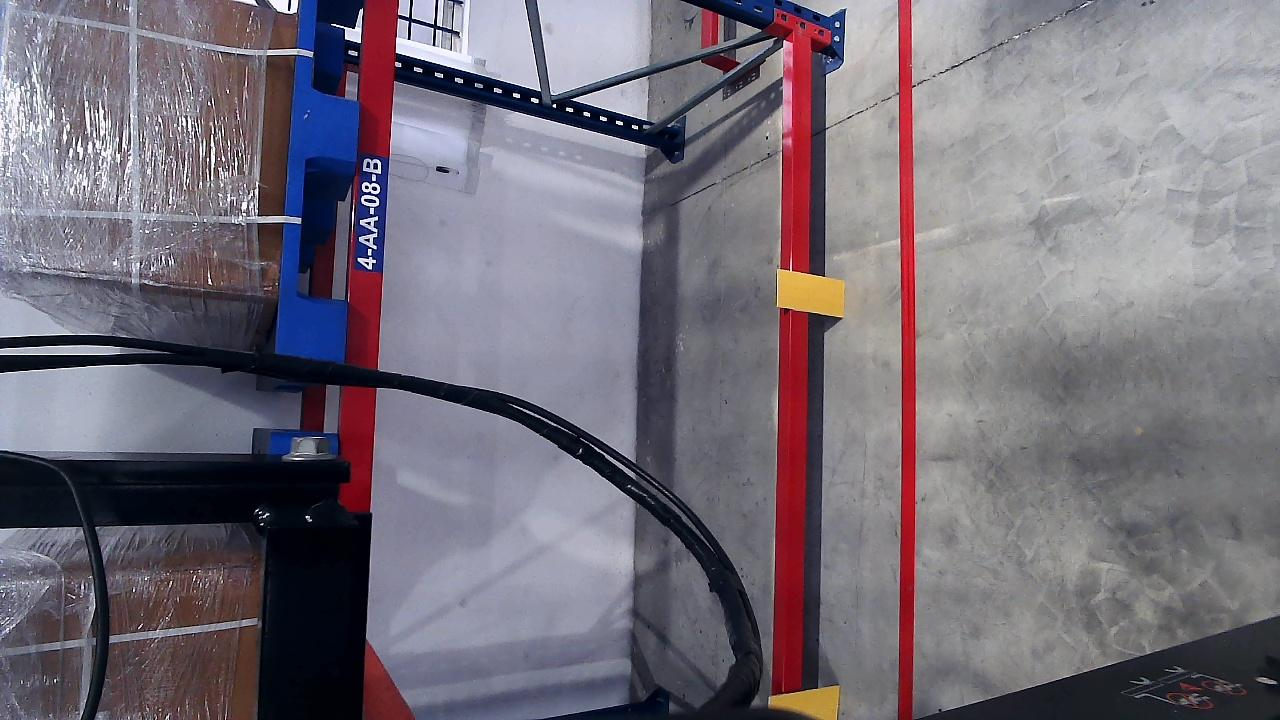h_rack: (340, 0, 402, 510), (778, 35, 815, 713)
orange_strip: (775, 268, 844, 316), (766, 684, 839, 719)
red_line: (894, 0, 917, 715)
small_pallet: (272, 1, 369, 356)
